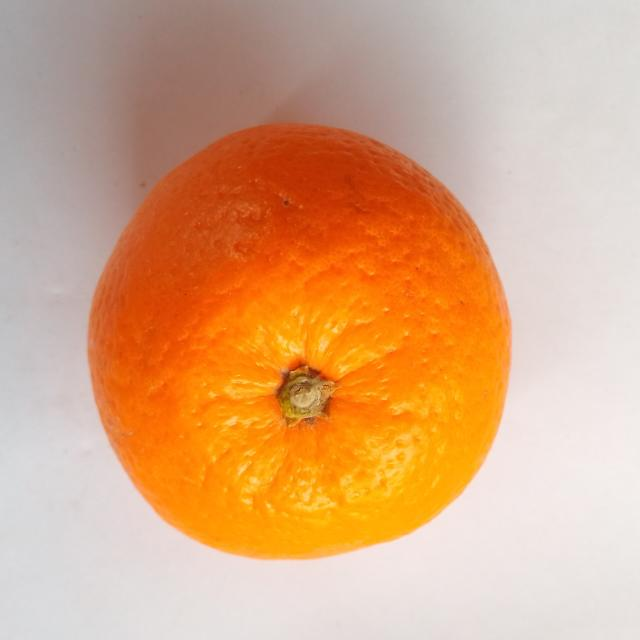orange: (89, 125, 510, 558)
